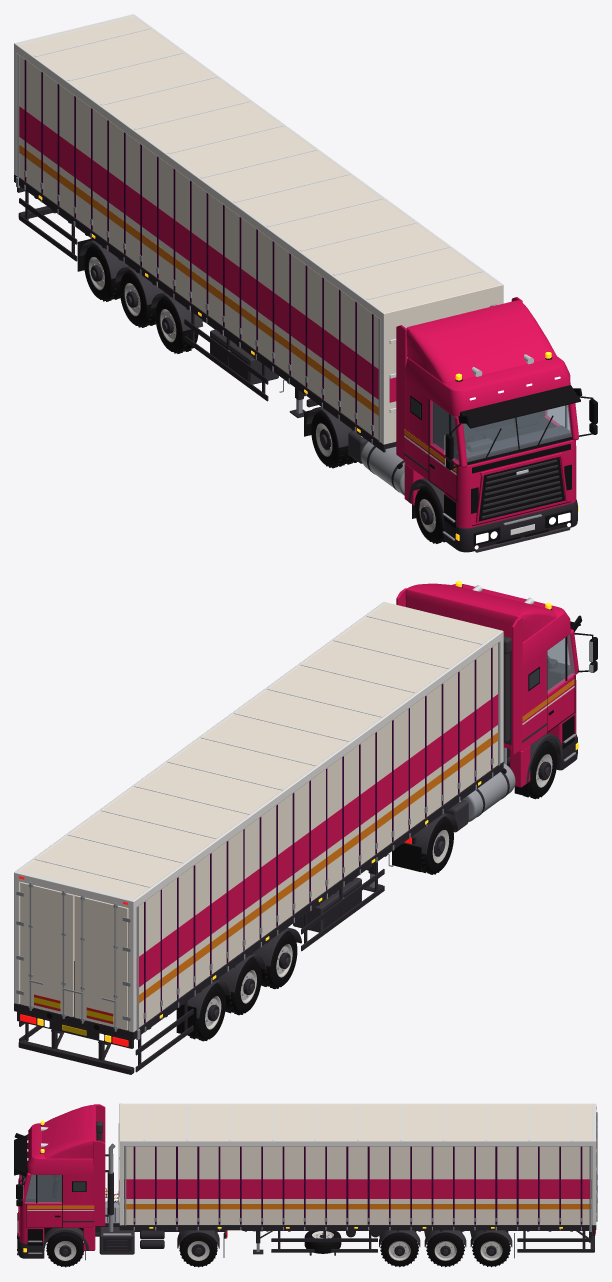
File: lorry.glb
3 renders of one model, top to bottom at view 1: azimuth 30°, elevation 25°; view 2: azimuth 150°, elevation 25°; view 3: azimuth 270°, elevation 25°, orthographic. The views are drawn at different scales.
Parts seen in each view (by area): view 1: rail, w_tr, w_drive_o, w_tr.002, w_tr.004, w_steer; view 2: rail, w_tr, w_tr.002, w_drive_o, w_steer, w_tr.004; view 3: rail, w_steer.001, w_tr.005, w_drive_o.001, w_tr.003, w_tr.001, spare, w_tr_tr.174, w_tr_tr.290, w_tr_tr.058, w_steer_tr.058, w_drive_o_tr.058.
Part boxes in pixels (x1=…): rail: x1=14, y1=14, x2=597, y2=552; w_tr: x1=155, y1=297, x2=198, y2=352; w_drive_o: x1=311, y1=411, x2=349, y2=467; w_tr.002: x1=119, y1=271, x2=156, y2=326; w_tr.004: x1=84, y1=244, x2=120, y2=300; w_steer: x1=414, y1=487, x2=444, y2=542; rail: x1=14, y1=581, x2=597, y2=1074; w_tr: x1=261, y1=932, x2=297, y2=987; w_tr.002: x1=225, y1=958, x2=261, y2=1013; w_drive_o: x1=421, y1=818, x2=453, y2=873; w_steer: x1=529, y1=742, x2=557, y2=797; w_tr.004: x1=193, y1=984, x2=225, y2=1039; rail: x1=14, y1=1103, x2=597, y2=1260; w_steer.001: x1=47, y1=1232, x2=83, y2=1266; w_tr.005: x1=473, y1=1232, x2=509, y2=1266; w_drive_o.001: x1=180, y1=1232, x2=216, y2=1266; w_tr.003: x1=427, y1=1232, x2=463, y2=1266; w_tr.001: x1=381, y1=1232, x2=417, y2=1266; spare: x1=304, y1=1231, x2=341, y2=1253; w_tr_tr.174: x1=426, y1=1232, x2=464, y2=1267; w_tr_tr.290: x1=472, y1=1232, x2=510, y2=1267; w_tr_tr.058: x1=380, y1=1232, x2=418, y2=1267; w_steer_tr.058: x1=46, y1=1232, x2=84, y2=1267; w_drive_o_tr.058: x1=179, y1=1233, x2=217, y2=1267.
Size of the model in its own units: 3.16 by 4.03 by 16.67.
